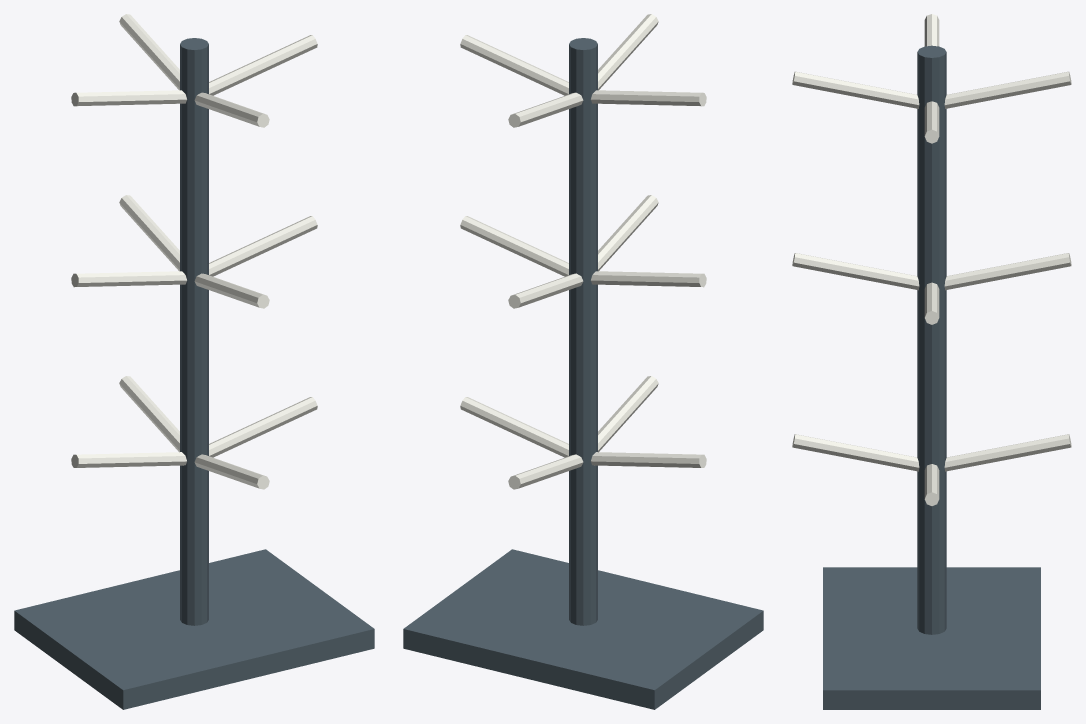
The model's file is american-football-stadium-kit-helmet-rack-00af4c6b__22386.glb.
3 views of the same model, side by side, from view 1: azimuth 30°, elevation 25°; view 2: azimuth 150°, elevation 25°; view 3: azimuth 270°, elevation 25° (orthographic).
Visible parts, largest first — view 1: helmet-rack; view 2: helmet-rack; view 3: helmet-rack.
Boxes of the visible parts, left/top/right/bottom form: helmet-rack: left=14, top=14, right=374, bottom=709; helmet-rack: left=403, top=14, right=763, bottom=709; helmet-rack: left=792, top=14, right=1071, bottom=709.
Size of the model in its own units: 0.7999 by 1.81 by 0.7683.
